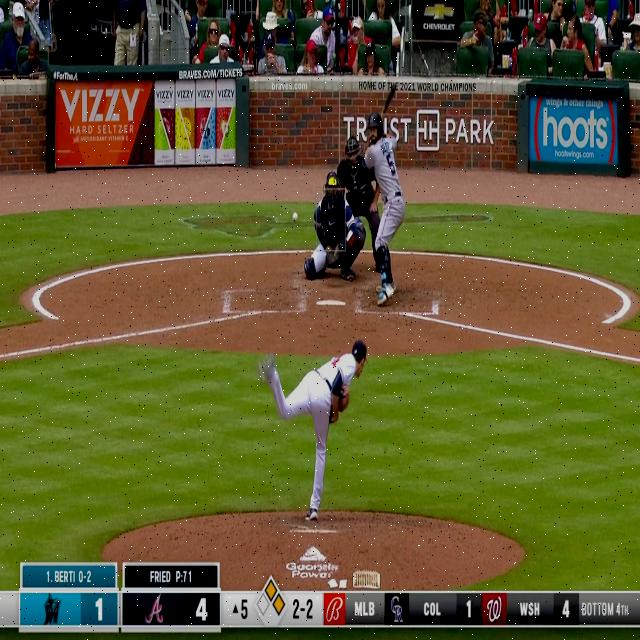baseball: (292, 212, 298, 222)
